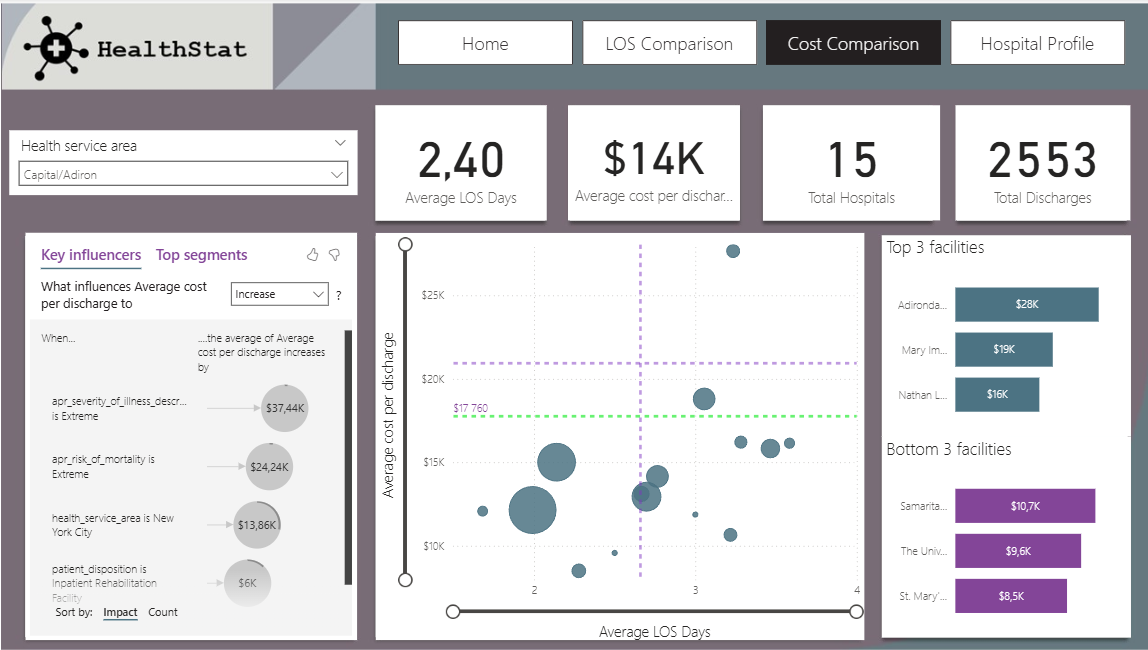

The page's visual inventory and layout, read from the dashboard file:
{"tool":"powerbi","page":{"name":"Cost Comparison","canvas":[1280,720],"ordinal":2},"visuals":[{"type":"image","box":[0,0,1280,719.8],"z":0},{"type":"scatterChart","fields":{"X":["_Measures.Average LOS Days"],"Y":["_Measures.Average cost per discharge"],"Category":["hospital_discharges.facility_name"],"Size":["_Measures.Total Discharges"],"Series":["hospital_discharges.health_service_area"]},"box":[420.2,256.8,536.9,447.4],"z":1000},{"type":"slicer","fields":{"Values":["hospital_discharges.health_service_area"]},"box":[17.5,144,382.2,71],"z":2000},{"type":"keyDriversVisual","fields":{"ExplainBy":["hospital_discharges.apr_risk_of_mortality","hospital_discharges.apr_severity_of_illness_description","hospital_discharges.ccs_diagnosis_description","hospital_discharges.patient_disposition","hospital_discharges.gender","hospital_discharges.age_group","surgical_program_volume_summary.Surgical Program Size","hospital_discharges.health_service_area"],"Target":["_Measures.Average cost per discharge"]},"box":[36,256.8,363.8,447.4],"z":3000},{"type":"clusteredBarChart","title":"Top 3 facilities","fields":{"Y":["_Measures.Average cost per discharge"],"Category":["hospital_discharges.facility_name"]},"box":[975.6,259.7,273.3,220.8],"z":4000},{"type":"clusteredBarChart","title":"Bottom 3 facilities","fields":{"Category":["hospital_discharges.facility_name"],"Y":["_Measures.Average cost per discharge"]},"box":[975.6,480.5,273.3,220.8],"z":5000},{"type":"card","fields":{"Values":["_Measures.Average LOS Days"]},"box":[420.2,116.7,187.7,126.4],"z":6000},{"type":"card","fields":{"Values":["_Measures.Average cost per discharge"]},"box":[631.2,116.7,188.7,126.4],"z":7000},{"type":"card","fields":{"Values":["_Measures.Total Hospitals"]},"box":[845.2,116.7,194.5,126.4],"z":8000},{"type":"card","fields":{"Values":["_Measures.Total Discharges"]},"box":[1057.3,116.7,191.6,126.4],"z":9000},{"type":"pageNavigator","box":[444.5,23.3,800.5,49.6],"z":10000}]}

Visuals, with their boxes in screenshot pixels (x1, y1, x2, y2), scaled from the page's 1280x720 canvas onto the 1148x650 screenshot:
image: (0, 0, 1147, 649)
scatterChart - _Measures.Average LOS Days x _Measures.Average cost per discharge: (377, 232, 858, 636)
slicer - hospital_discharges.health_service_area: (16, 130, 358, 194)
keyDriversVisual - hospital_discharges.apr_risk_of_mortality x hospital_discharges.apr_severity_of_illness_description: (32, 232, 359, 636)
"Top 3 facilities" clusteredBarChart: (875, 234, 1120, 434)
"Bottom 3 facilities" clusteredBarChart: (875, 434, 1120, 633)
card - _Measures.Average LOS Days: (377, 105, 545, 219)
card - _Measures.Average cost per discharge: (566, 105, 735, 219)
card - _Measures.Total Hospitals: (758, 105, 932, 219)
card - _Measures.Total Discharges: (948, 105, 1120, 219)
pageNavigator: (399, 21, 1117, 66)
